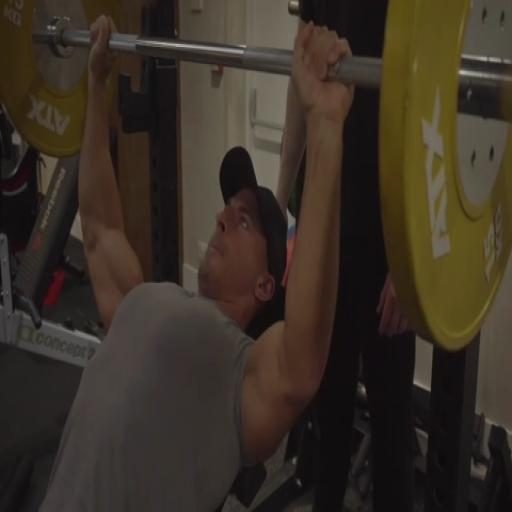exercise: (32, 12, 358, 510)
